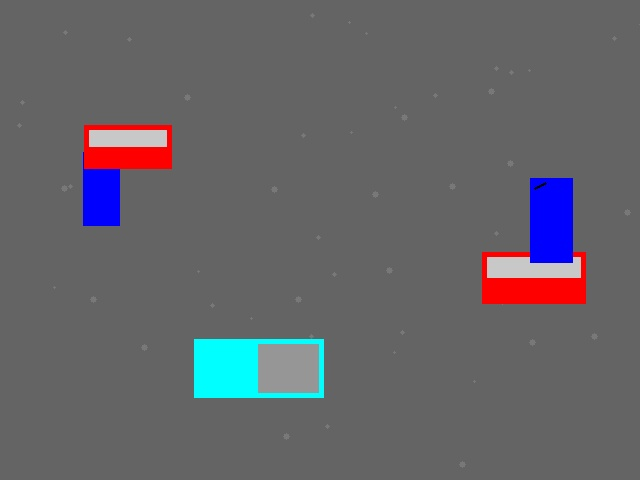car: (482, 252, 585, 303), (84, 125, 171, 168)
motorcycle: (530, 178, 572, 262), (83, 152, 119, 225)
truck: (194, 339, 323, 397)
